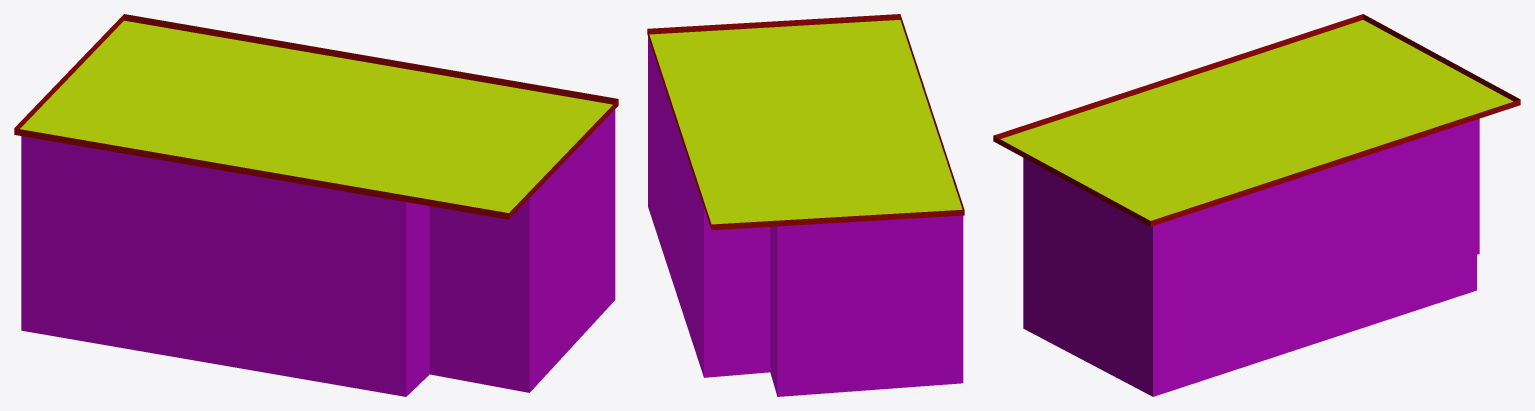
Rendered from bgj_14.glb.
3 views of the same model, side by side, from view 1: azimuth 30°, elevation 25°; view 2: azimuth 150°, elevation 25°; view 3: azimuth 270°, elevation 25° (orthographic). The views are drawn at different scales.
Visible parts, largest first — view 1: bgj_14; view 2: bgj_14; view 3: bgj_14.
Boxes of the visible parts, x1,y1,x2,y2 form: bgj_14: (14,14,618,396); bgj_14: (647,14,964,396); bgj_14: (993,14,1520,396).
Bounding box in the file's own units: 26.62 × 10.6 × 28.64.
